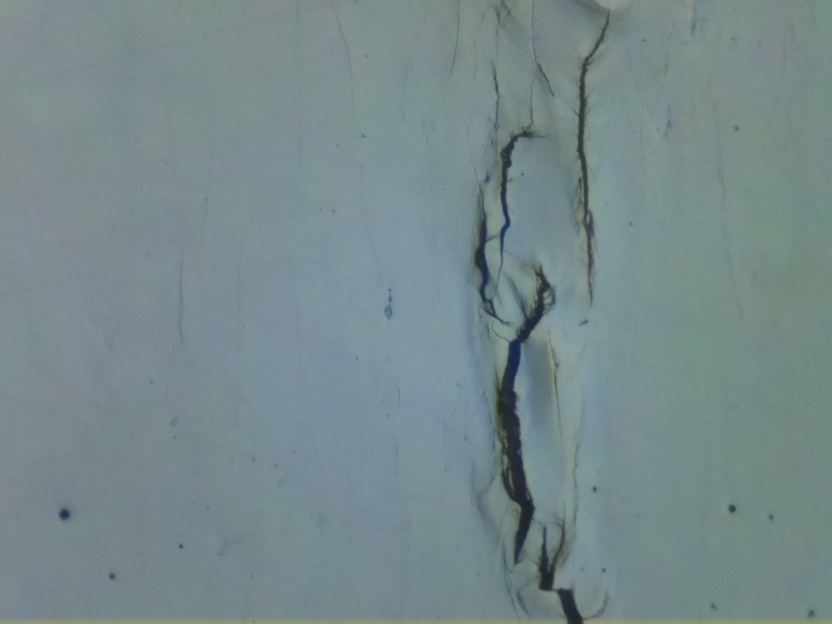crack: (499, 277, 555, 561), (576, 12, 612, 304), (499, 130, 542, 263), (536, 521, 589, 624), (466, 201, 497, 316)
